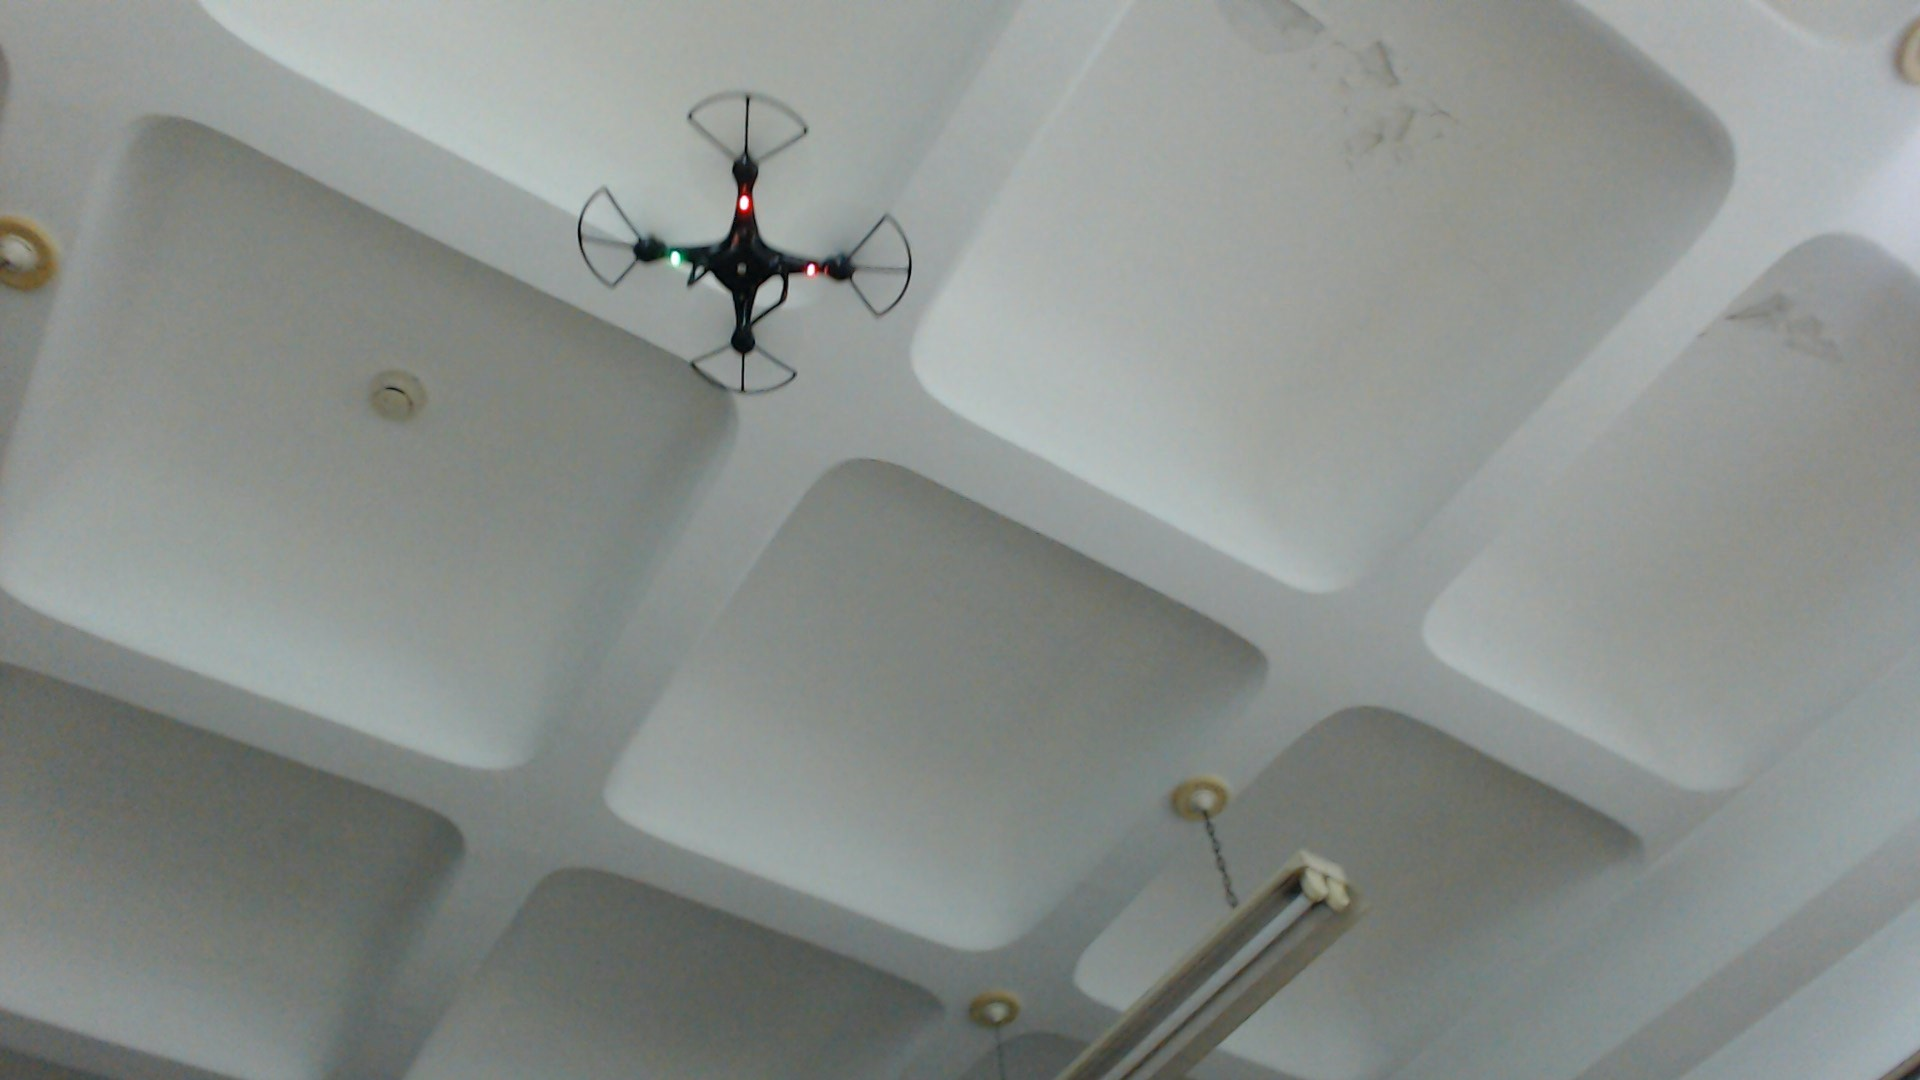drone: (574, 88, 916, 400)
